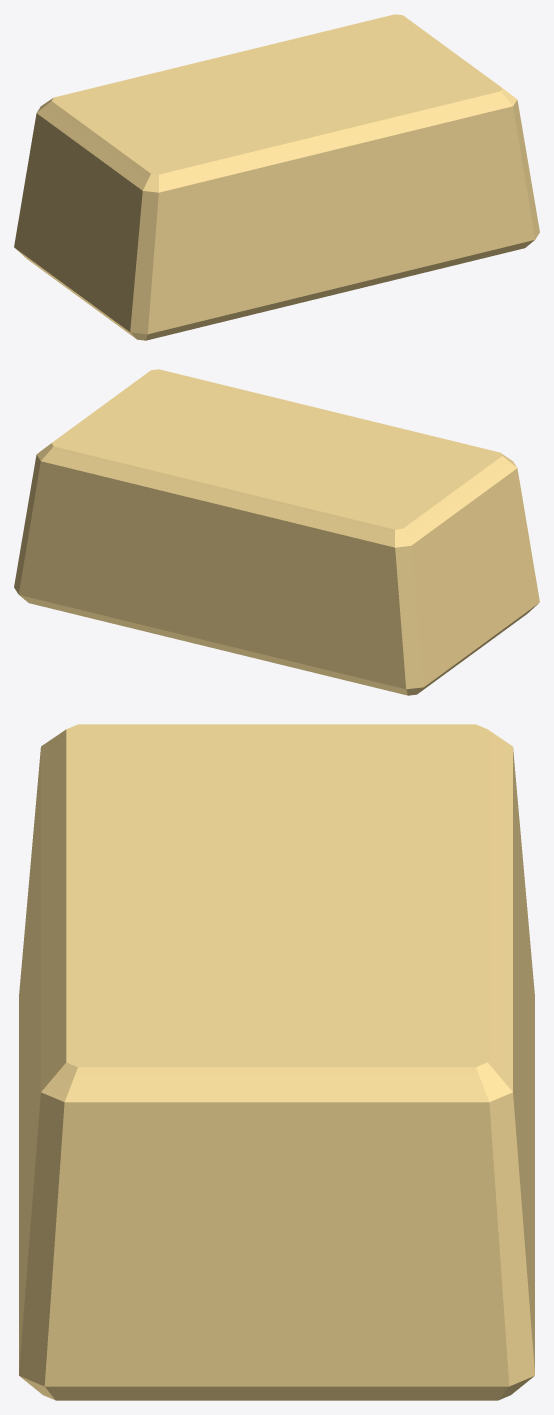
File: desktop.glb
3 views of the same model, one above another, from view 1: azimuth 30°, elevation 25°; view 2: azimuth 150°, elevation 25°; view 3: azimuth 270°, elevation 25° (orthographic). The views are drawn at different scales.
Bounding box in the file's own units: 0.4367 × 0.16 × 0.2382.
Materials: 1 (1 with a texture image).
